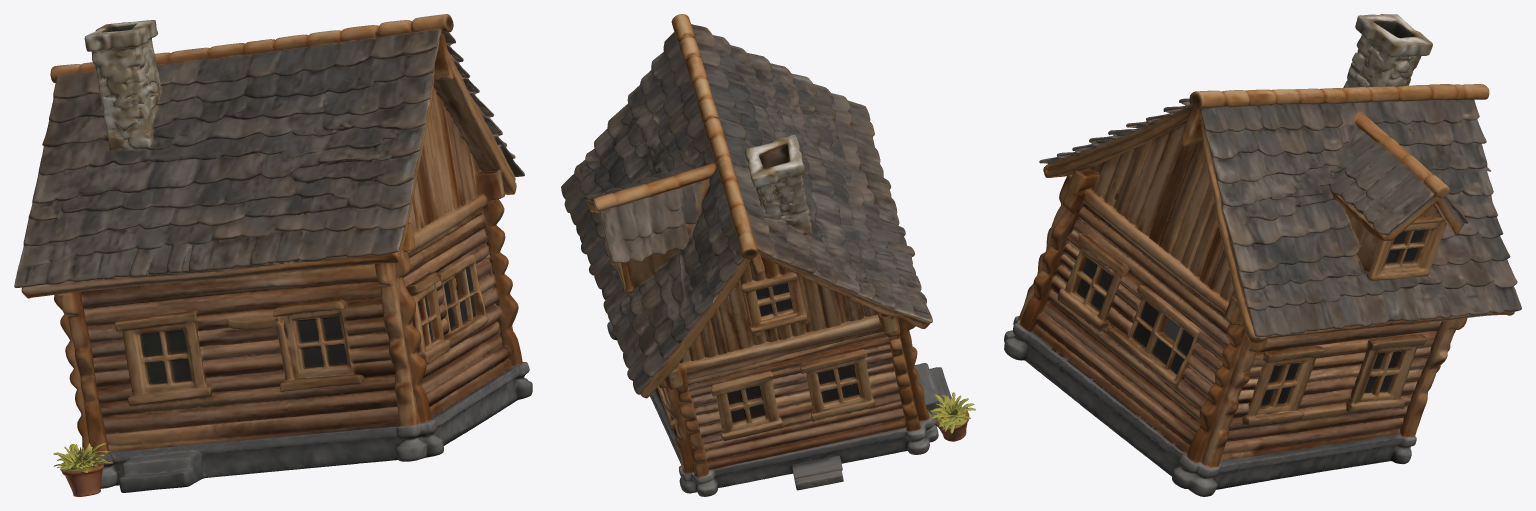
File: cottage.glb
The picture shows the model from 3 angles, left to right: view 1: azimuth 30°, elevation 25°; view 2: azimuth 150°, elevation 25°; view 3: azimuth 270°, elevation 25°; orthographic projection. The views are drawn at different scales.
Bounding box in the file's own units: 0.8975 × 0.8277 × 0.9149.
1 material, 1 textured.
